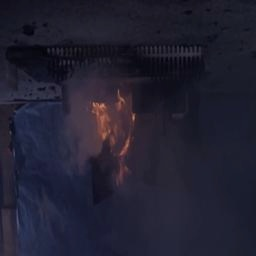fire: (89, 83, 144, 170)
